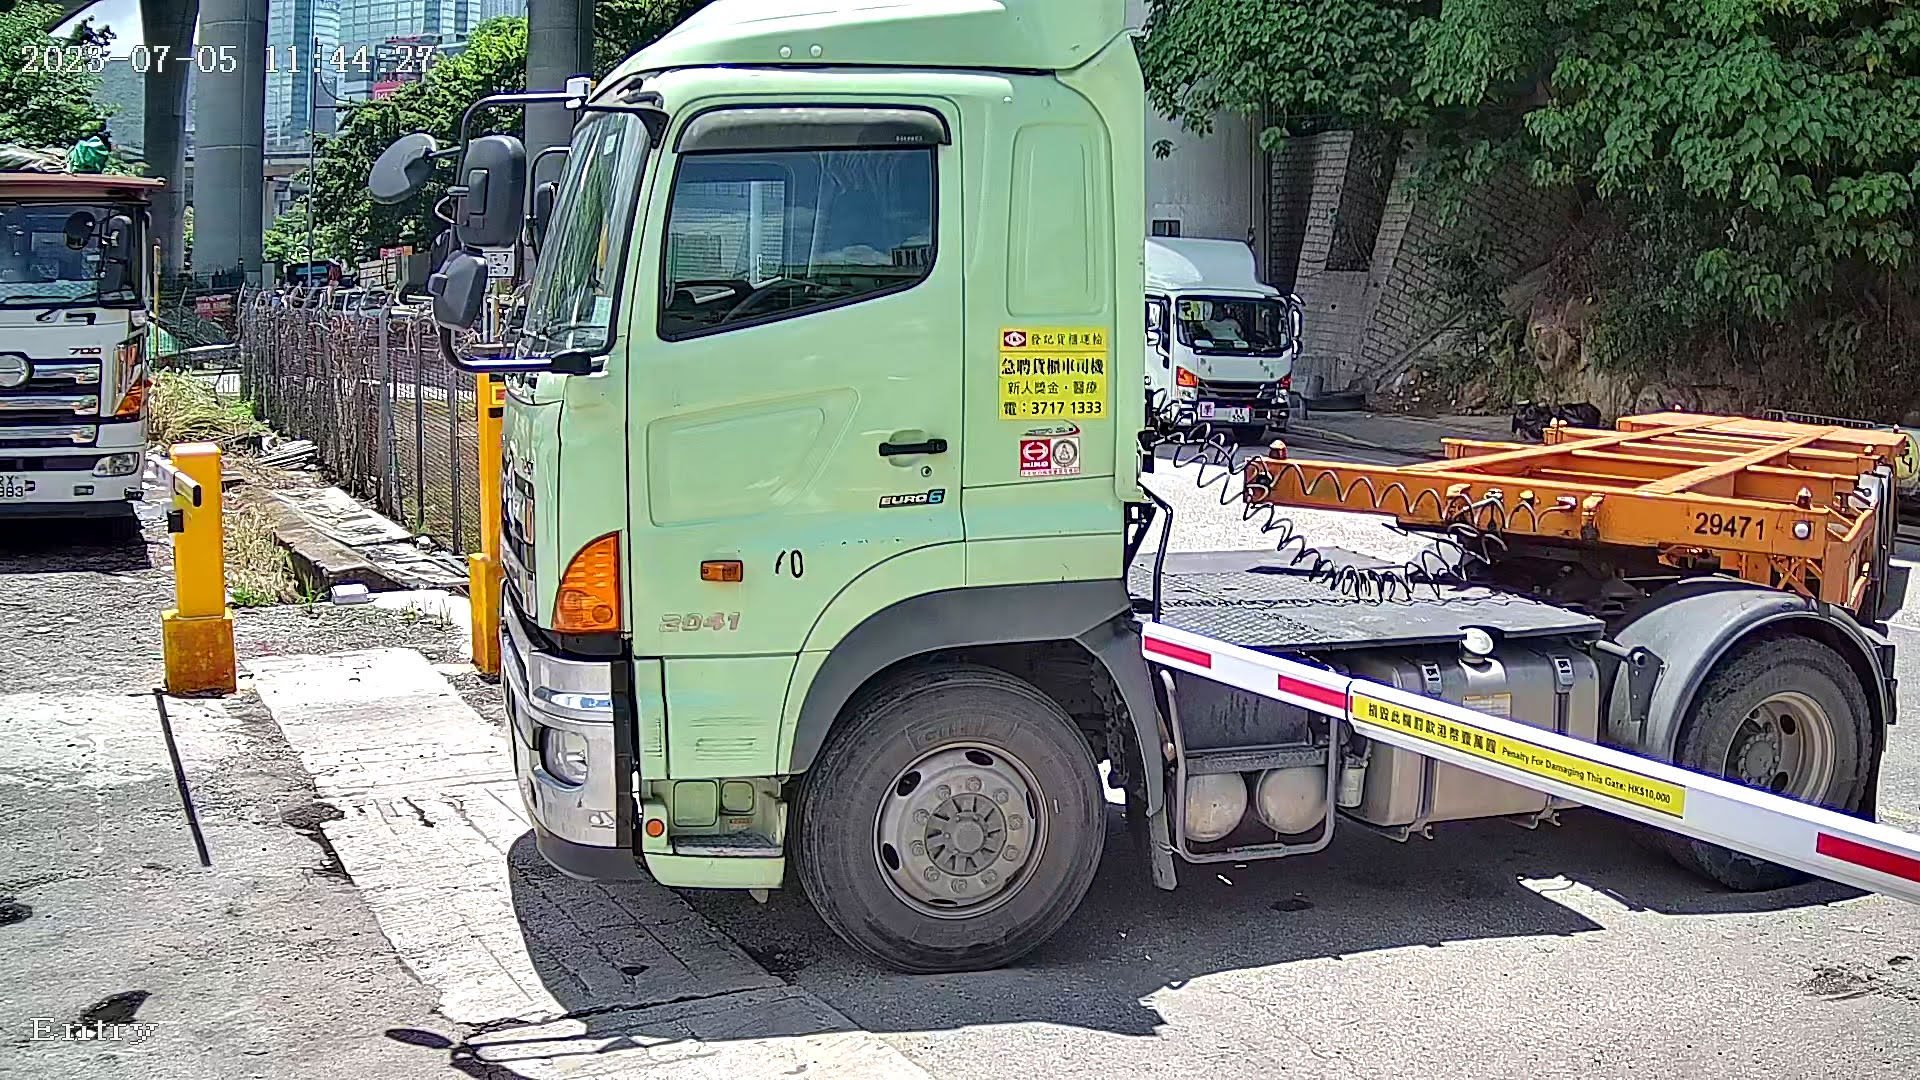tractor: (411, 1, 1920, 1006)
